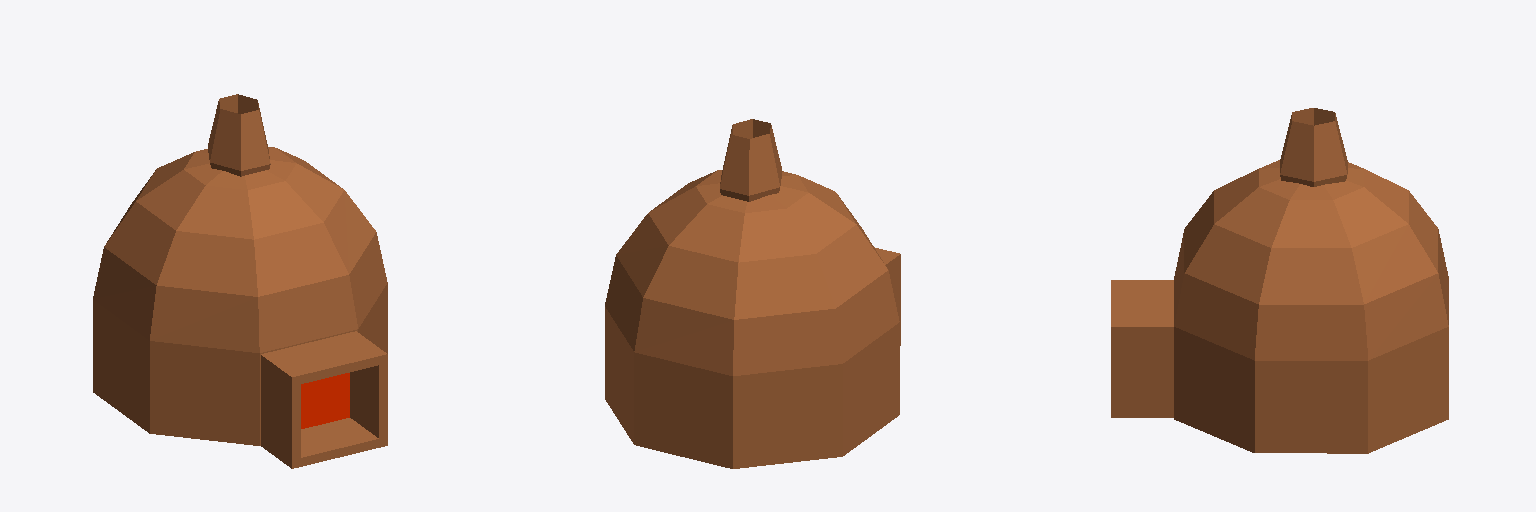
The model's file is kiln1.obj.
3 views of the same model, side by side, from view 1: azimuth 30°, elevation 25°; view 2: azimuth 150°, elevation 25°; view 3: azimuth 270°, elevation 25° (orthographic).
Parts seen in each view (by area): view 1: Object.1, Object.6, Object.3, Object.4, Object.2, Object.5, Object.7; view 2: Object.1, Object.6, Object.3; view 3: Object.1, Object.2, Object.6, Object.4.
Part boxes in pixels (left/top/right/bottom): Object.1: left=93, top=147, right=387, bottom=445; Object.6: left=208, top=94, right=270, bottom=176; Object.3: left=261, top=352, right=300, bottom=468; Object.4: left=261, top=333, right=379, bottom=383; Object.2: left=349, top=331, right=387, bottom=447; Object.5: left=261, top=418, right=379, bottom=468; Object.7: left=301, top=373, right=349, bottom=428; Object.1: left=605, top=170, right=899, bottom=468; Object.6: left=720, top=119, right=782, bottom=201; Object.3: left=883, top=252, right=900, bottom=345; Object.1: left=1174, top=160, right=1448, bottom=453; Object.2: left=1111, top=323, right=1173, bottom=417; Object.6: left=1280, top=108, right=1347, bottom=186; Object.4: left=1111, top=280, right=1173, bottom=322.
Bounding box in the file's own units: 0.8938 × 1 × 1.1.